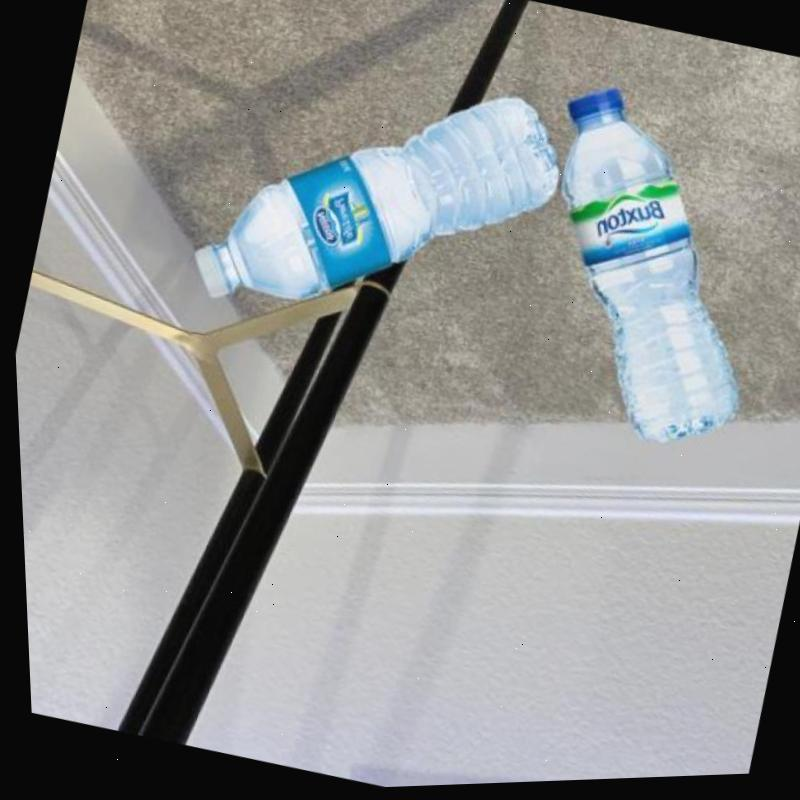botella: (174, 29, 582, 376), (486, 75, 800, 473)
